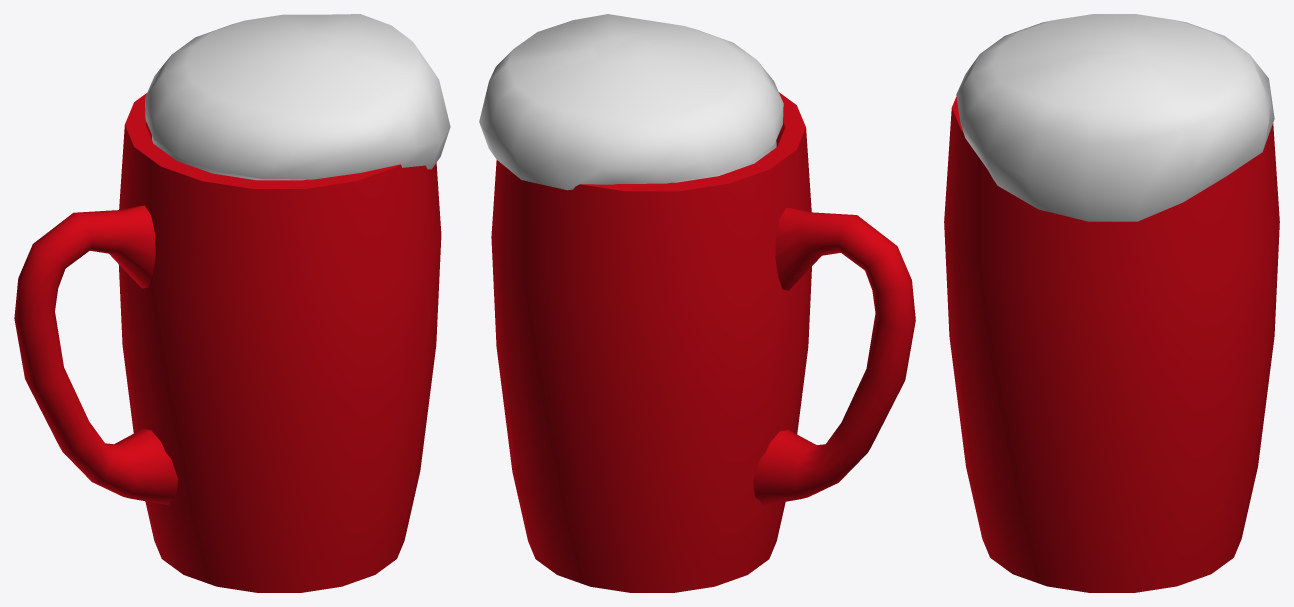
File: Mug of beer.fbx
The picture shows the model from 3 angles, left to right: view 1: azimuth 30°, elevation 25°; view 2: azimuth 150°, elevation 25°; view 3: azimuth 270°, elevation 25°; orthographic projection. The views are drawn at different scales.
Parts seen in each view (by area): view 1: Mug of beer, Mug of beer.001; view 2: Mug of beer, Mug of beer.001; view 3: Mug of beer, Mug of beer.001.
Boxes of the visible parts, x1=… form: Mug of beer: x1=14, y1=93, x2=441, y2=592; Mug of beer.001: x1=145, y1=14, x2=450, y2=180; Mug of beer: x1=491, y1=92, x2=915, y2=592; Mug of beer.001: x1=479, y1=14, x2=783, y2=190; Mug of beer: x1=944, y1=96, x2=1279, y2=592; Mug of beer.001: x1=956, y1=14, x2=1274, y2=221.
Bounding box in the file's own units: 0.2038 × 0.2299 × 0.1382.
